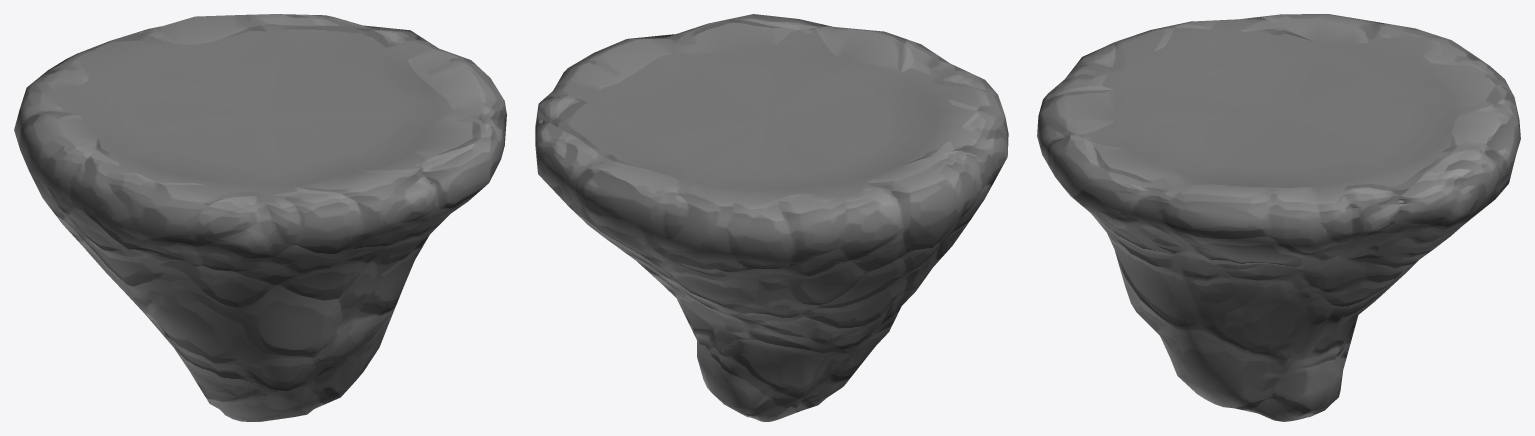
File: FloatingIsland.fbx
The picture shows the model from 3 angles, left to right: view 1: azimuth 30°, elevation 25°; view 2: azimuth 150°, elevation 25°; view 3: azimuth 270°, elevation 25°; orthographic projection. The views are drawn at different scales.
Parts seen in each view (by area): view 1: FloatingIsland; view 2: FloatingIsland; view 3: FloatingIsland.
Boxes of the visible parts, x1,y1,x2,y2 form: FloatingIsland: (14, 14, 506, 421); FloatingIsland: (535, 14, 1008, 421); FloatingIsland: (1037, 14, 1520, 421).
Size of the model in its own units: 15.14 by 10.71 by 15.04.
